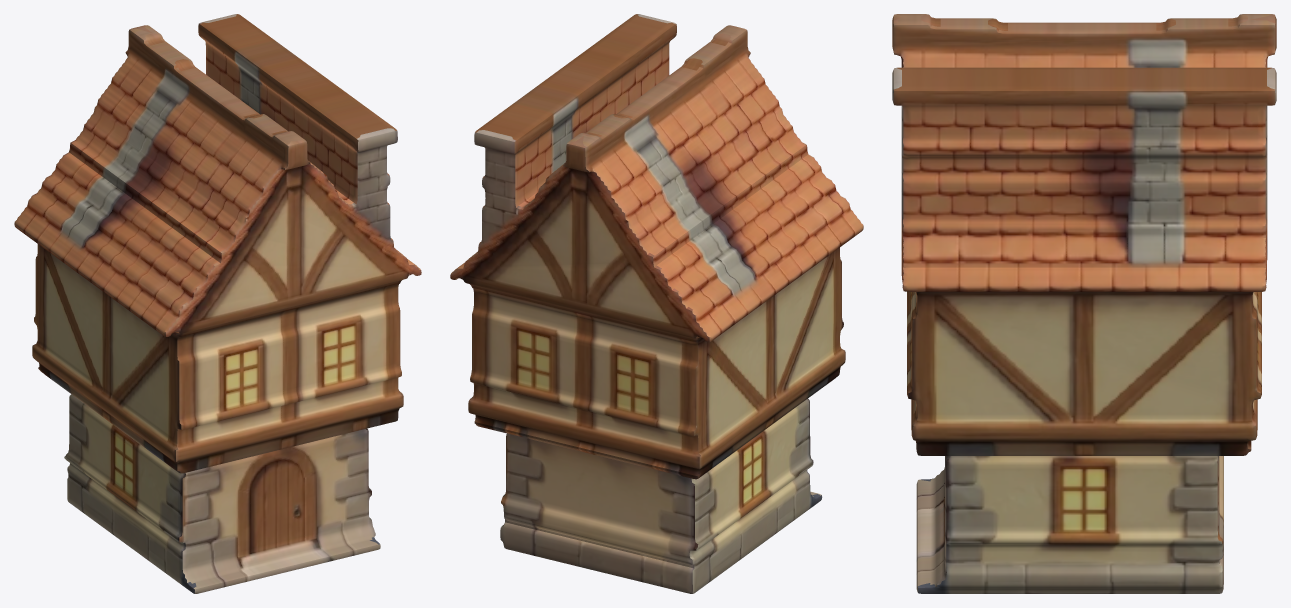
Rendered from town-house-terracotta.glb.
3 renders of one model, left to right at view 1: azimuth 30°, elevation 25°; view 2: azimuth 150°, elevation 25°; view 3: azimuth 270°, elevation 25°, orthographic. The views are drawn at different scales.
Parts seen in each view (by area): view 1: piece; view 2: piece; view 3: piece.
Boxes of the visible parts, bbox=[...] form: piece: bbox=[14, 14, 421, 593]; piece: bbox=[450, 14, 863, 593]; piece: bbox=[892, 14, 1276, 593].
Size of the model in its own units: 3.08 by 5 by 3.33.
Materials: 1 (1 with a texture image).
